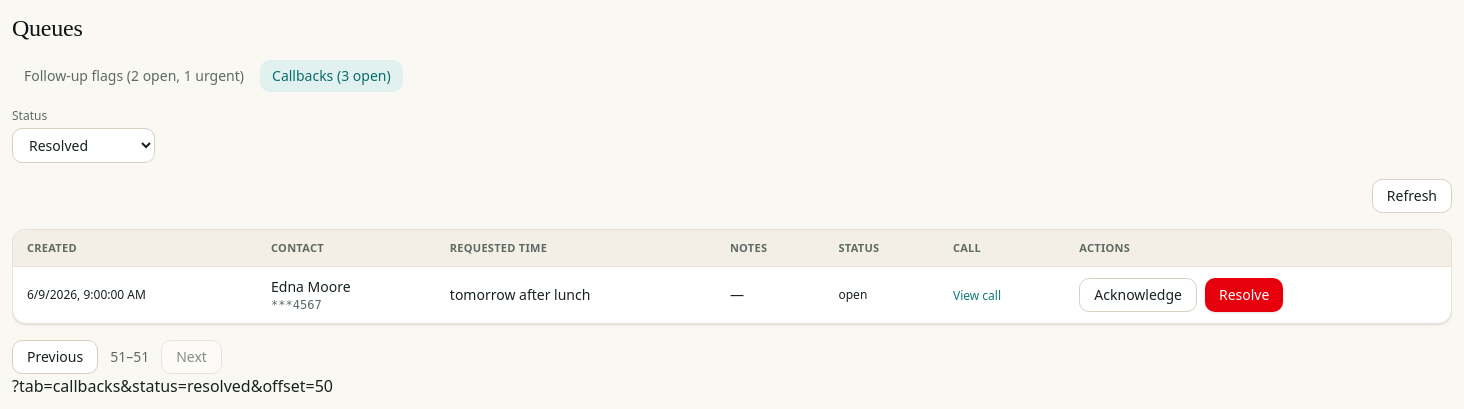
it: QueuesPage › tab, status and offset sync to the URL
Click the tab "Follow-up flags (2 open, 1 urgent)".
click(134, 76)  # box [12,60,256,92]
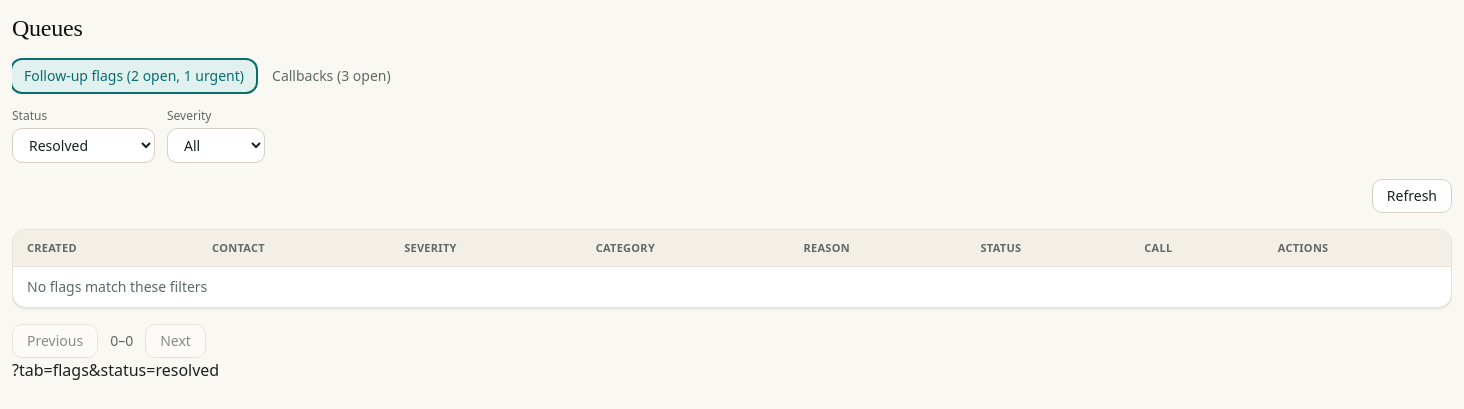
Expected: the text with test id "location-search" shows "tab=flags", [12,359,219,381]
